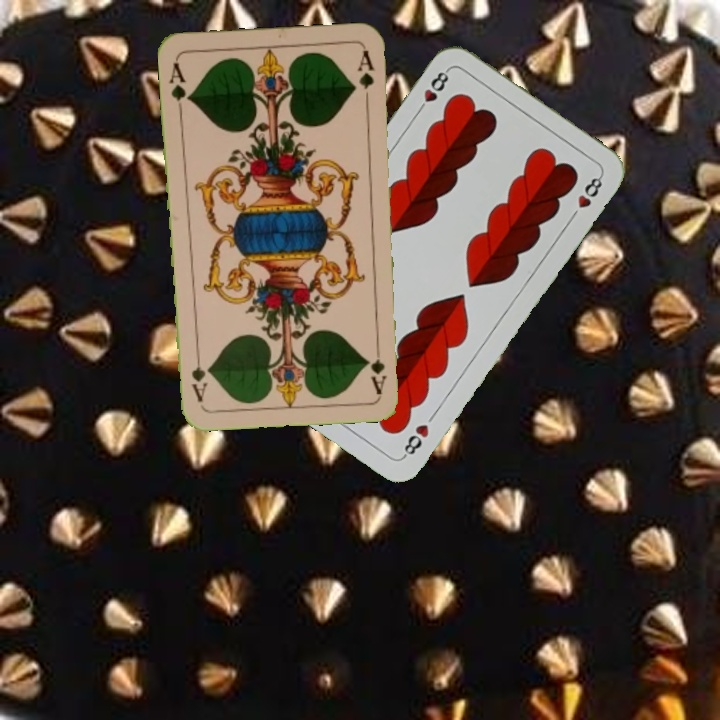GA: (165, 59, 194, 116), (367, 336, 390, 396)
H8: (413, 65, 452, 116), (399, 420, 432, 461)
